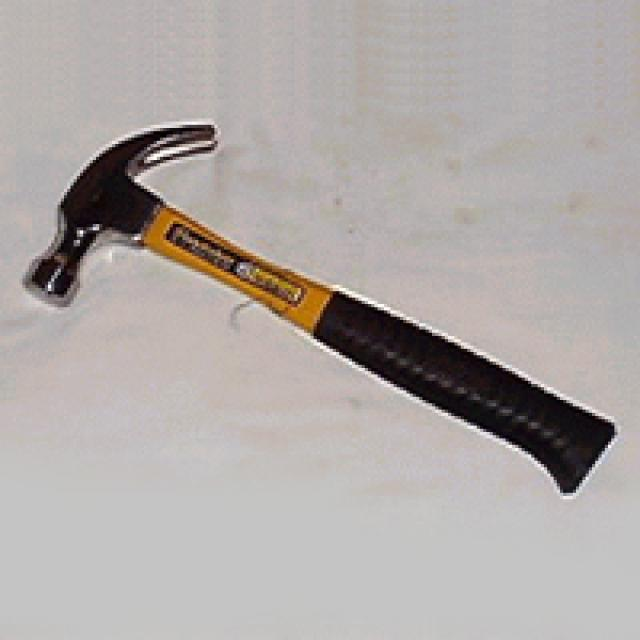hammer: (14, 108, 632, 518)
